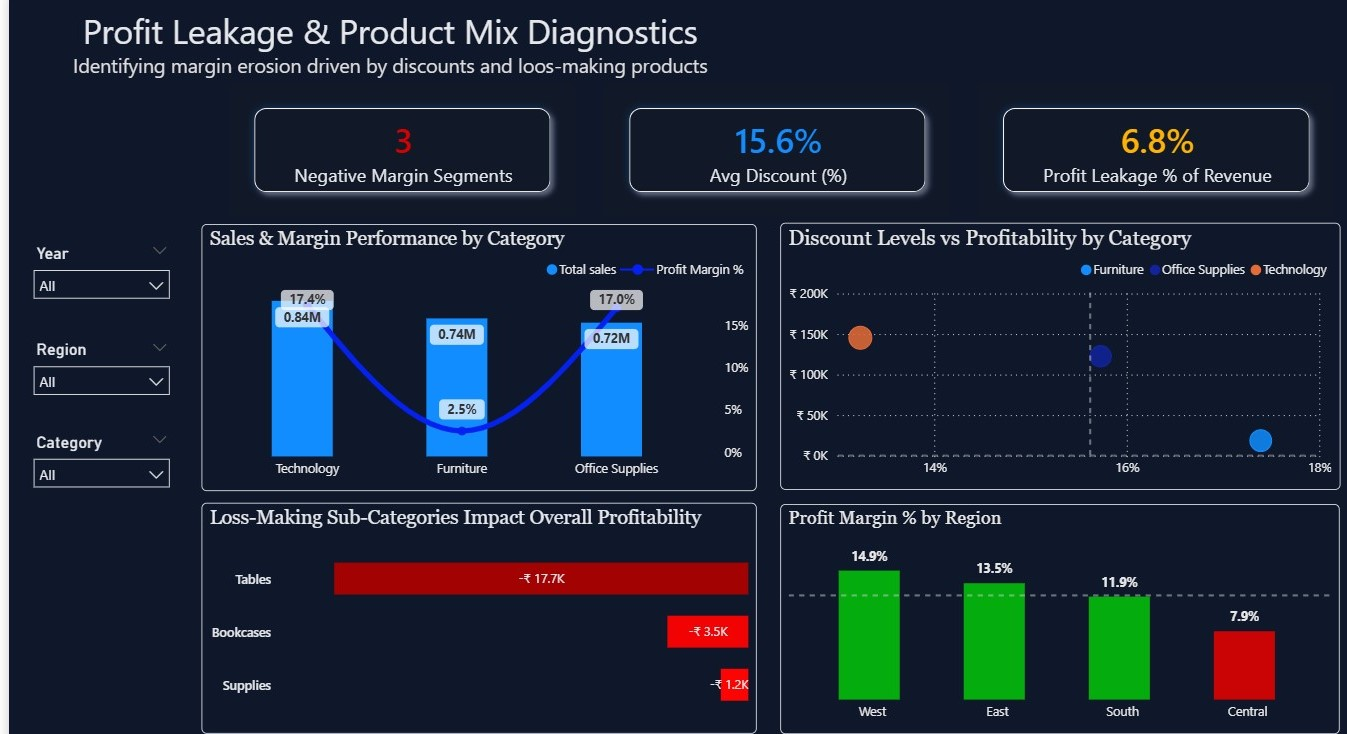

Layout of this report page (visuals, bound fields, positions):
{"tool":"powerbi","page":{"name":"Profit Leakage & Product Mix Analysis","canvas":[1280,720],"ordinal":1},"visuals":[{"type":"textbox","box":[13.1,8.3,700,81],"z":0},{"type":"slicer","fields":{"Values":["Date Table.Year"]},"box":[13.2,233.5,149.7,71.9],"z":1000},{"type":"slicer","fields":{"Values":["Fact_Sales.Region"]},"box":[13.2,324.6,149.7,71.9],"z":2000},{"type":"slicer","fields":{"Values":["Fact_Sales.Category"]},"box":[13.2,413.2,149.7,71.9],"z":3000},{"type":"cardVisual","title":"Loss-Making Sub-Categories","fields":{"Data":["Fact_Sales.Loss Sub-categories"]},"box":[204.6,79.6,340.6,138.4],"z":4000},{"type":"cardVisual","fields":{"Data":["Fact_Sales.Avg Discount %"]},"box":[561.4,79.8,340,138.1],"z":5000},{"type":"cardVisual","fields":{"Data":["Fact_Sales.Profit Leakage %"]},"box":[917.6,79.6,350.4,138.4],"z":6000},{"type":"barChart","title":"Loss-Making Sub-Categories Impact Overall Profitability","fields":{"Category":["Fact_Sales.Sub Category"],"Y":["Fact_Sales.Total Profit"]},"box":[183.9,484.9,529.1,219.7],"z":7000},{"type":"scatterChart","title":"Discount Levels vs Profitability by Category","fields":{"X":["Fact_Sales.Avg Discount %"],"Size":["Fact_Sales.Total sales"],"Series":["Fact_Sales.Category"],"Y":["Fact_Sales.Total Profit"]},"box":[734.5,217.9,533.3,254.8],"z":8000},{"type":"lineClusteredColumnComboChart","title":"Sales & Margin Performance by Category","fields":{"Category":["Fact_Sales.Category"],"Y":["Fact_Sales.Total sales"],"Y2":["Fact_Sales.Profit Margin %"]},"box":[183.9,218.5,529.1,254.4],"z":9000},{"type":"clusteredColumnChart","fields":{"Category":["Fact_Sales.Region"],"Y":["Fact_Sales.Profit Margin %"]},"box":[735.1,485.1,532.9,219.3],"z":10000}]}

Visuals, with their boxes on the page's 1280x720 design canvas (x1, y1, x2, y2). These are canvas units, not pixel positions in the 1347x734 screenshot, which may show the page scaled, cropped or inside an application window:
textbox: left=13, top=8, right=713, bottom=89
slicer - Date Table.Year: left=13, top=234, right=163, bottom=305
slicer - Fact_Sales.Region: left=13, top=325, right=163, bottom=396
slicer - Fact_Sales.Category: left=13, top=413, right=163, bottom=485
"Loss-Making Sub-Categories" cardVisual: left=205, top=80, right=545, bottom=218
cardVisual - Fact_Sales.Avg Discount %: left=561, top=80, right=901, bottom=218
cardVisual - Fact_Sales.Profit Leakage %: left=918, top=80, right=1268, bottom=218
"Loss-Making Sub-Categories Impact Overall Profitability" barChart: left=184, top=485, right=713, bottom=705
"Discount Levels vs Profitability by Category" scatterChart: left=734, top=218, right=1268, bottom=473
"Sales & Margin Performance by Category" lineClusteredColumnComboChart: left=184, top=218, right=713, bottom=473
clusteredColumnChart - Fact_Sales.Region x Fact_Sales.Profit Margin %: left=735, top=485, right=1268, bottom=704
